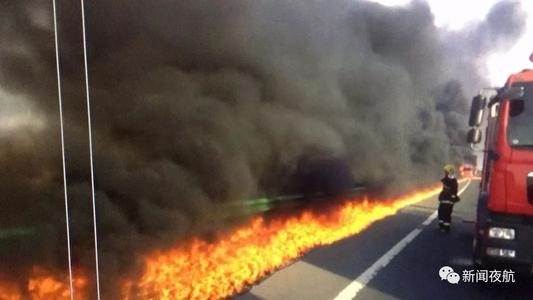fire: (118, 173, 452, 299), (0, 259, 93, 299)
